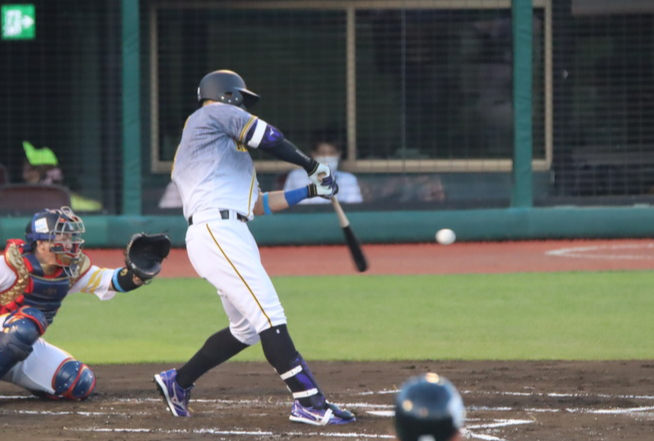ball: (434, 226, 457, 246)
